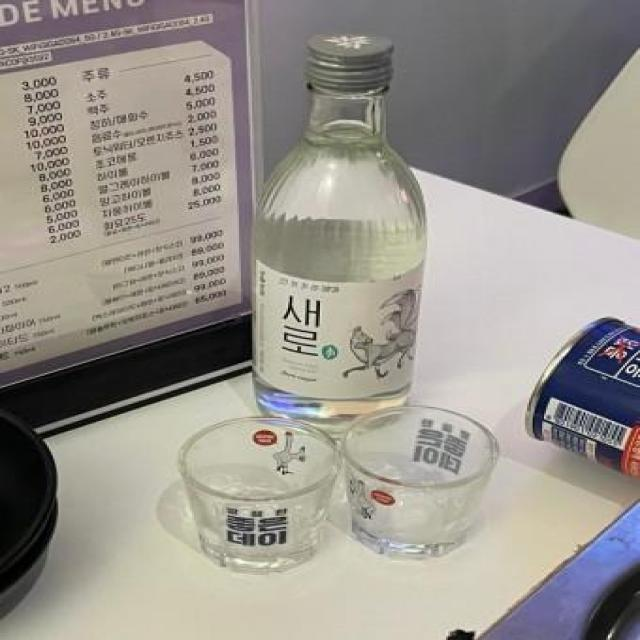soju-bottle: (247, 30, 426, 442)
